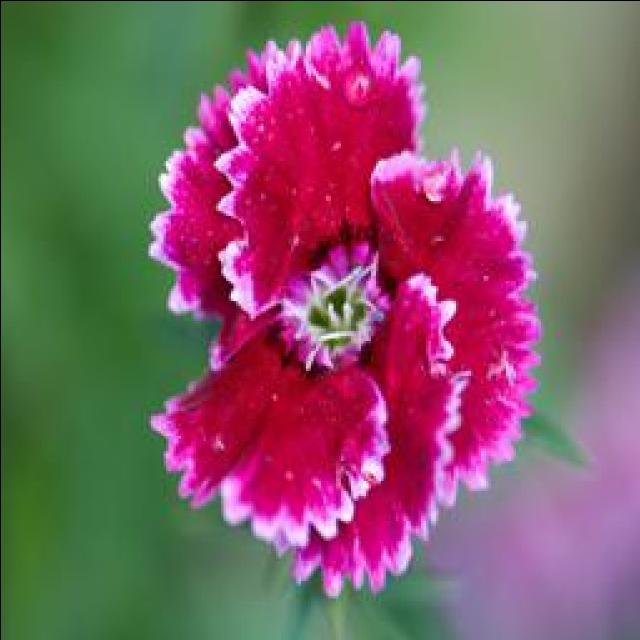carnation: (109, 16, 574, 572)
